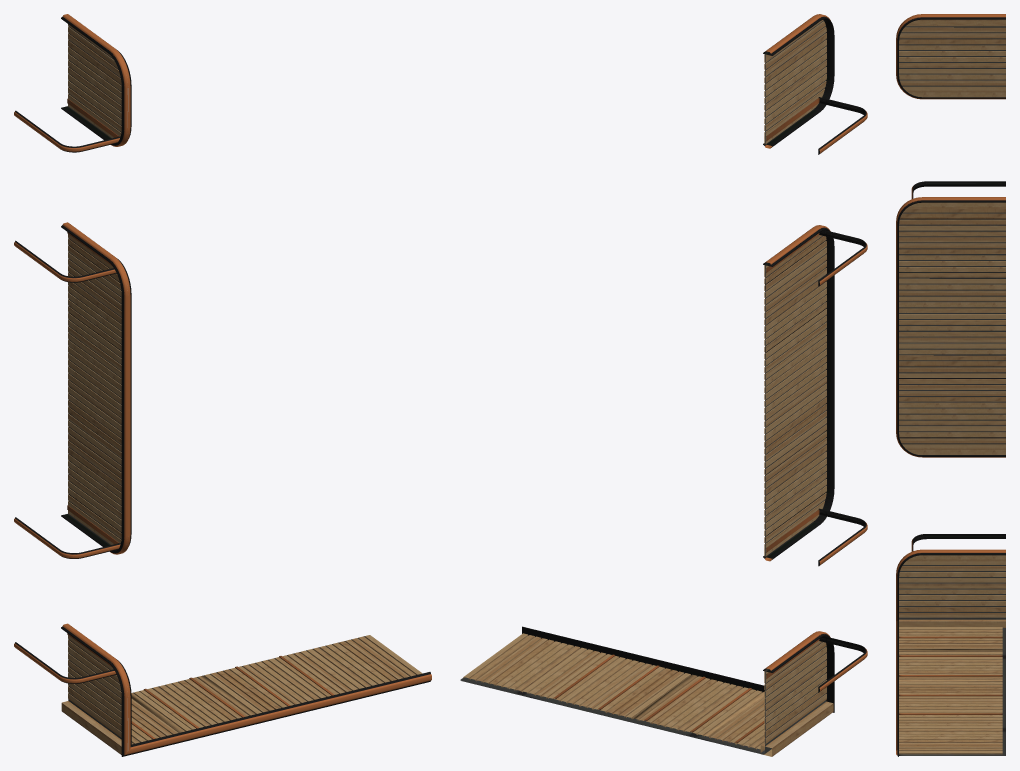
File: nt_hydro_courtyard_LOD0.obj
3 renders of one model, left to right at view 1: azimuth 30°, elevation 25°; view 2: azimuth 150°, elevation 25°; view 3: azimuth 270°, elevation 25°, orthographic. The views are drawn at different scales.
Parts seen in each view (by area): view 1: nt_wood_fence, mtl_nt_hydro_cabbage_holders; view 2: nt_wood_fence, mtl_nt_hydro_cabbage_holders; view 3: nt_wood_fence, mtl_nt_hydro_cabbage_holders.
Boxes of the visible parts, x1=… form: nt_wood_fence: x1=61, y1=24, x2=422, y2=754; mtl_nt_hydro_cabbage_holders: x1=14, y1=14, x2=431, y2=756; nt_wood_fence: x1=463, y1=20, x2=833, y2=756; mtl_nt_hydro_cabbage_holders: x1=460, y1=14, x2=867, y2=754; nt_wood_fence: x1=899, y1=19, x2=1005, y2=754; mtl_nt_hydro_cabbage_holders: x1=896, y1=14, x2=1005, y2=756.
Size of the model in its own units: 732 by 1371 by 223.
